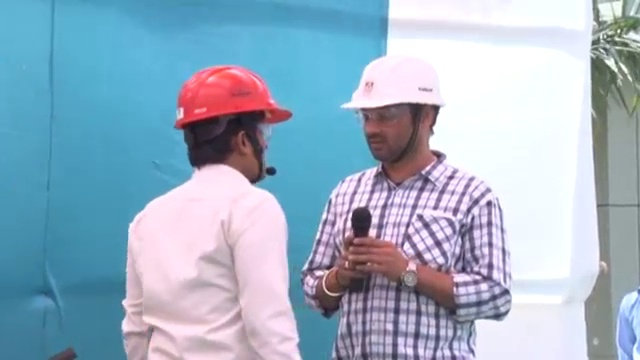helmet: (174, 63, 292, 127), (339, 54, 445, 111)
helmet_on: (172, 62, 294, 187), (338, 55, 446, 179)
person: (303, 54, 515, 360), (120, 63, 302, 360)
